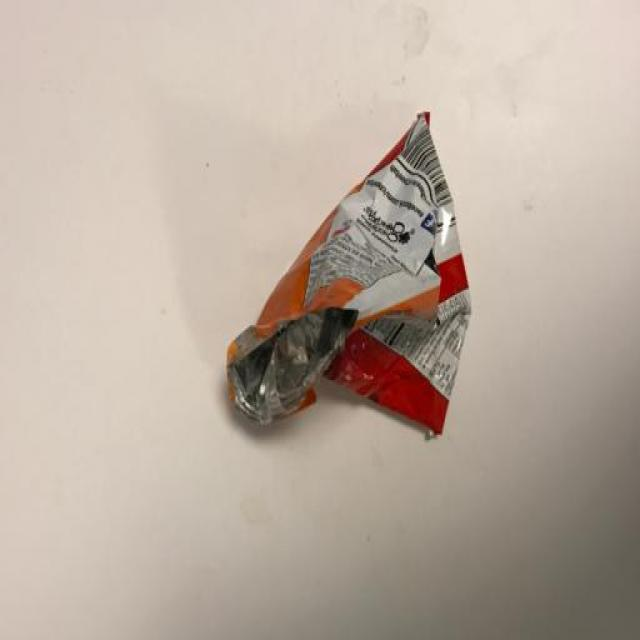plastic: (201, 92, 507, 486)
